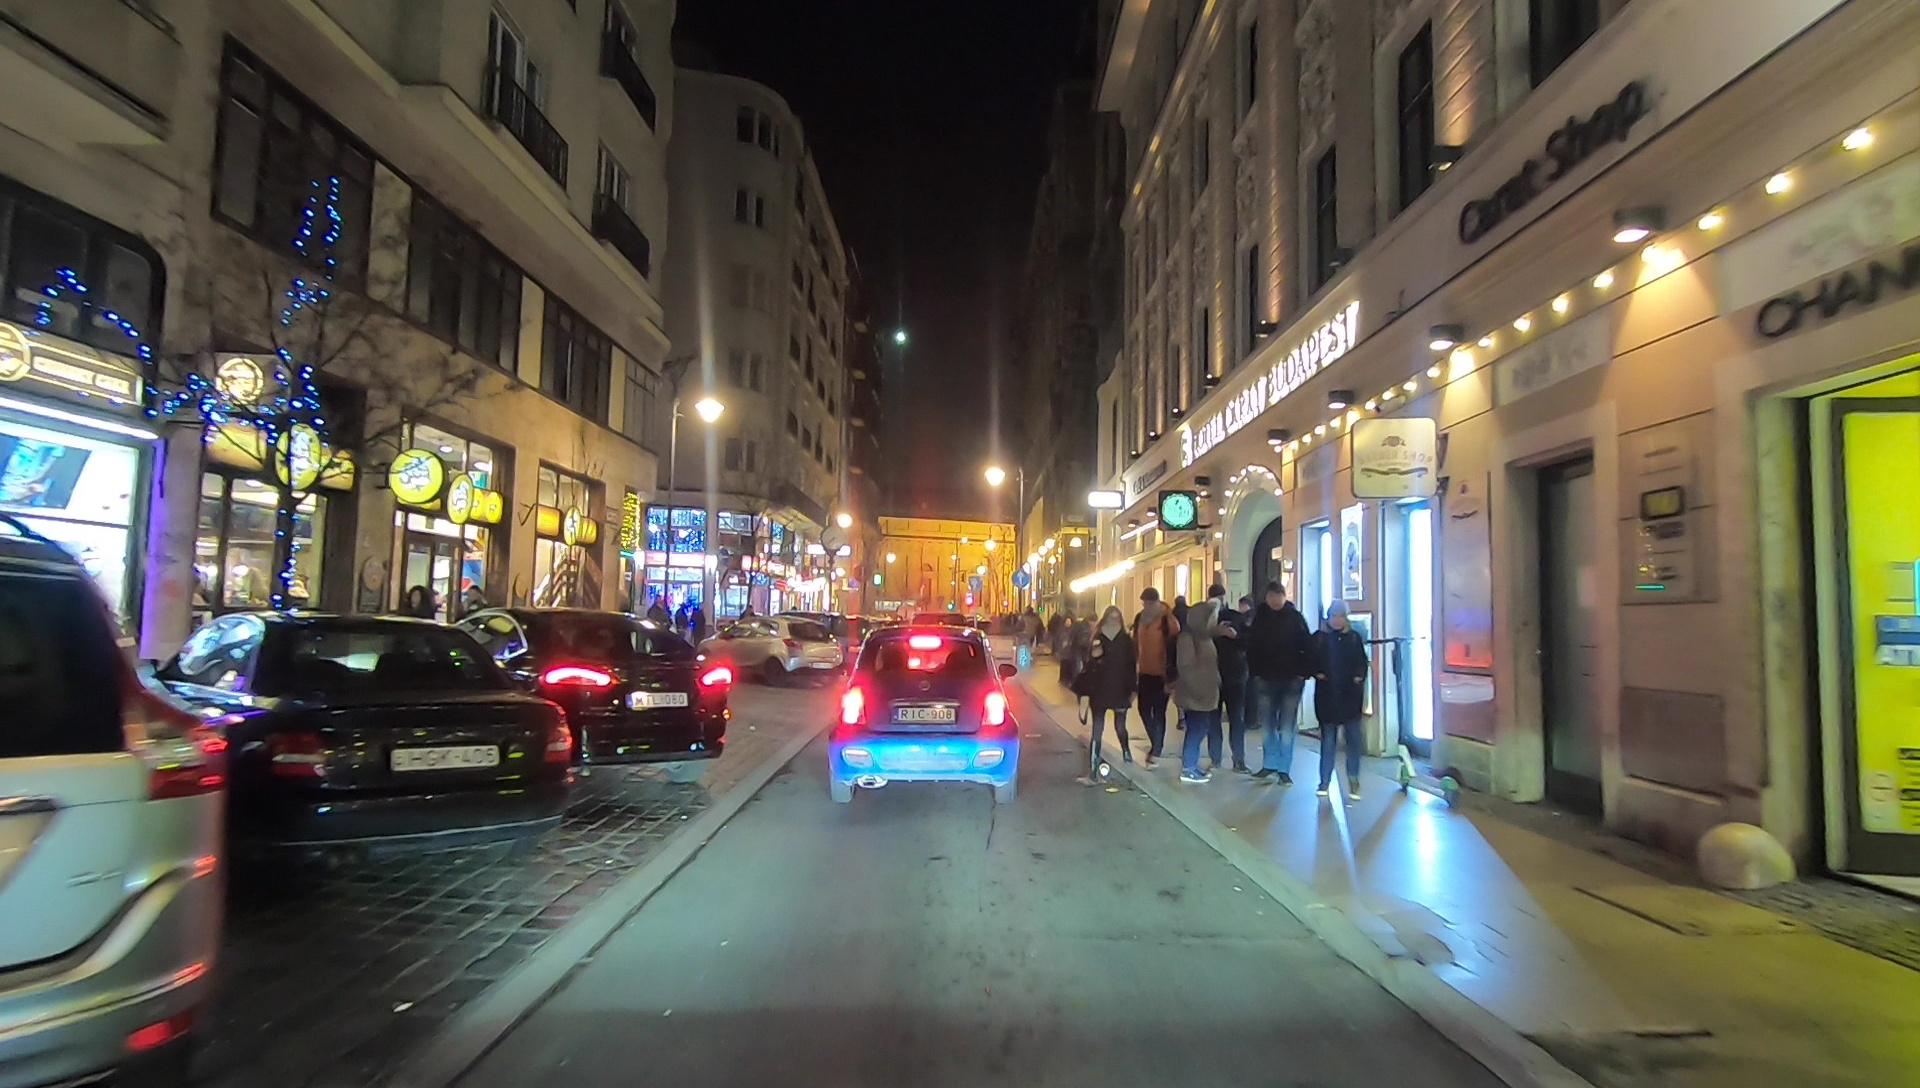person: (1074, 608, 1137, 779), (1254, 589, 1306, 787), (1315, 604, 1365, 801), (1204, 582, 1251, 776), (1134, 587, 1176, 767), (1180, 602, 1216, 785), (403, 586, 432, 677), (460, 586, 490, 663), (1058, 612, 1073, 685), (650, 593, 669, 652), (688, 606, 707, 650), (675, 600, 688, 643)
